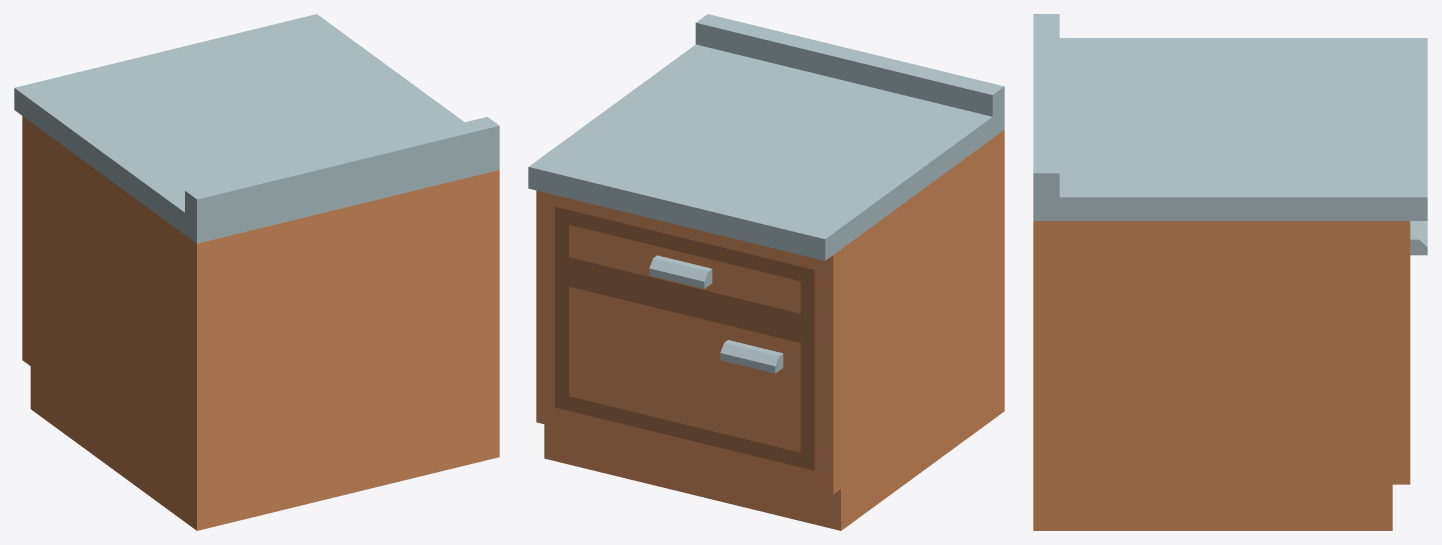
Rendered from kitchen_cabinet_drawer.obj.
3 views of the same model, side by side, from view 1: azimuth 30°, elevation 25°; view 2: azimuth 150°, elevation 25°; view 3: azimuth 270°, elevation 25° (orthographic). The views are drawn at different scales.
Visible parts, largest first — view 1: kitchenCabinetDrawer:drawer1; view 2: kitchenCabinetDrawer:drawer1; view 3: kitchenCabinetDrawer:drawer1.
Part boxes in pixels (box(x1,y1,x2,y2)): kitchenCabinetDrawer:drawer1: box(14, 14, 499, 530); kitchenCabinetDrawer:drawer1: box(528, 14, 1004, 530); kitchenCabinetDrawer:drawer1: box(1033, 14, 1427, 530).
Size of the model in its own units: 0.43 by 0.45 by 0.45.
